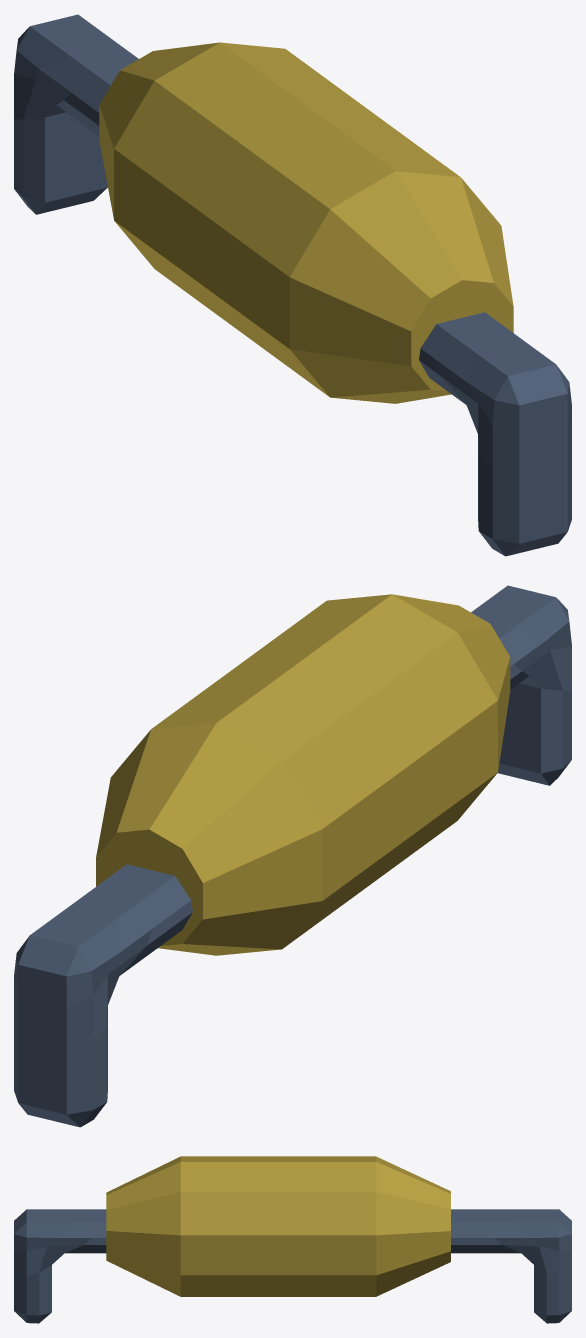
3 views of the same model, one above another, from view 1: azimuth 30°, elevation 25°; view 2: azimuth 150°, elevation 25°; view 3: azimuth 270°, elevation 25° (orthographic). The views are drawn at different scales.
Visible parts, largest first — view 1: C 4; view 2: C 4; view 3: C 4.
Boxes of the visible parts, x1,y1,x2,y2 form: C 4: [14, 14, 571, 556]; C 4: [14, 585, 571, 1127]; C 4: [14, 1156, 571, 1323].
Size of the model in its own units: 13.01 by 16.31 by 53.38.
